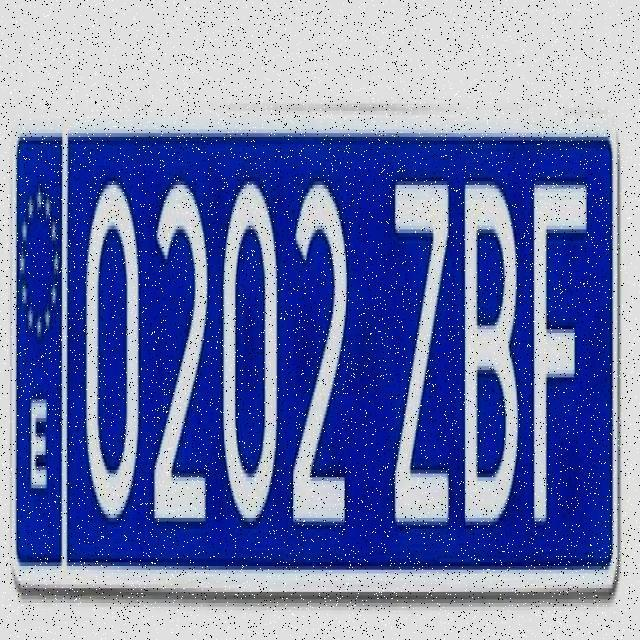LicensePlate: (12, 118, 618, 583)
